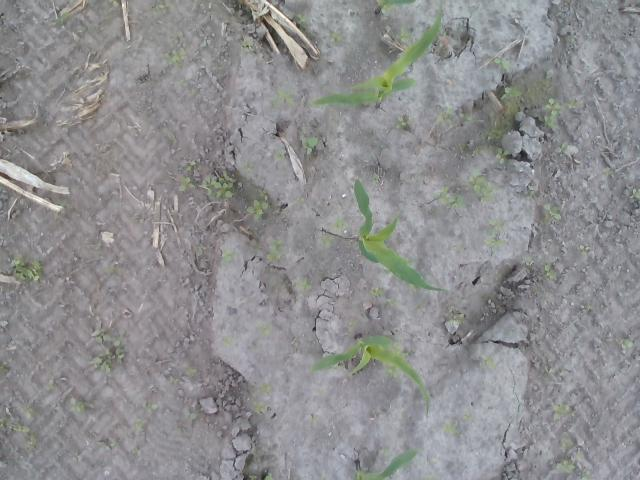Maize: (314, 3, 444, 108), (353, 177, 450, 294), (307, 335, 434, 417), (352, 446, 419, 480), (374, 0, 417, 13)
Weeds: (94, 333, 129, 368), (205, 169, 238, 199), (246, 190, 274, 224), (466, 169, 495, 201), (9, 255, 42, 282), (435, 107, 480, 125), (541, 94, 561, 130), (482, 218, 506, 248), (436, 186, 464, 210), (265, 237, 289, 262), (0, 416, 31, 433), (179, 160, 195, 192), (160, 47, 188, 65), (150, 0, 176, 16), (272, 88, 294, 106), (302, 135, 320, 156), (24, 433, 40, 456), (488, 56, 512, 71), (48, 11, 71, 26), (553, 402, 570, 422), (448, 306, 464, 326), (70, 396, 87, 414), (255, 318, 273, 335), (393, 114, 412, 130), (544, 208, 562, 224), (560, 458, 578, 474), (0, 358, 16, 376), (500, 86, 522, 99), (331, 217, 351, 231), (480, 352, 496, 368), (544, 262, 558, 280), (142, 400, 159, 414), (622, 336, 634, 355), (494, 146, 508, 162), (252, 400, 266, 416), (320, 233, 336, 247), (222, 248, 235, 265), (399, 24, 412, 41), (274, 142, 286, 160), (130, 419, 146, 432), (559, 436, 576, 448), (346, 319, 358, 336), (384, 366, 400, 378), (444, 422, 458, 435), (294, 278, 312, 288), (222, 335, 234, 349), (330, 30, 342, 44), (368, 286, 384, 296), (577, 244, 590, 256), (241, 36, 253, 49), (184, 366, 199, 376), (240, 162, 255, 172), (522, 255, 534, 267), (576, 471, 592, 480), (260, 382, 271, 395), (568, 98, 582, 108), (20, 406, 32, 416), (100, 442, 115, 450), (367, 175, 380, 184), (184, 411, 197, 420), (600, 168, 614, 176), (491, 128, 501, 139), (175, 79, 188, 87), (403, 352, 416, 359), (567, 34, 576, 44), (560, 143, 568, 154), (263, 472, 274, 480), (196, 244, 203, 256), (456, 142, 466, 150), (632, 189, 640, 199), (527, 190, 535, 199), (576, 452, 585, 460), (382, 447, 390, 456), (169, 376, 178, 384), (296, 15, 304, 24), (424, 475, 438, 480), (112, 0, 120, 8), (248, 473, 257, 480), (294, 196, 304, 202), (462, 412, 470, 419), (584, 303, 592, 310), (386, 299, 396, 304), (60, 202, 66, 208)
